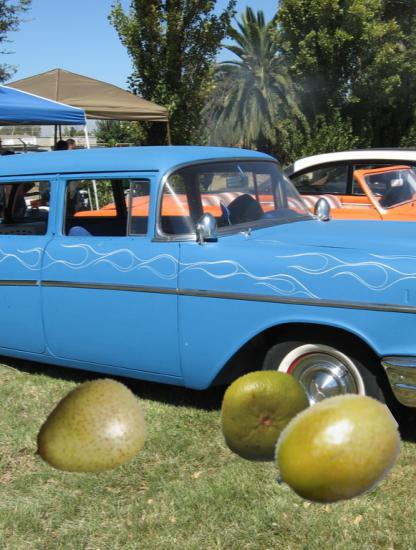Maracuja: (270, 384, 403, 517)
Pear: (30, 373, 150, 493)
Pomelo: (217, 367, 314, 464)
